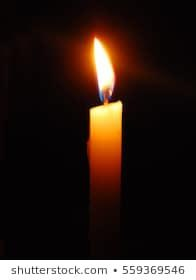fire: (89, 32, 115, 101)
